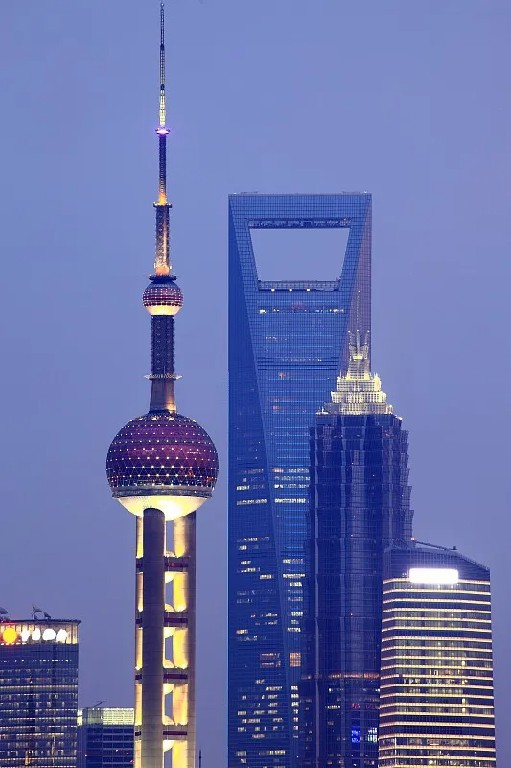Oriental: (105, 4, 218, 768)
